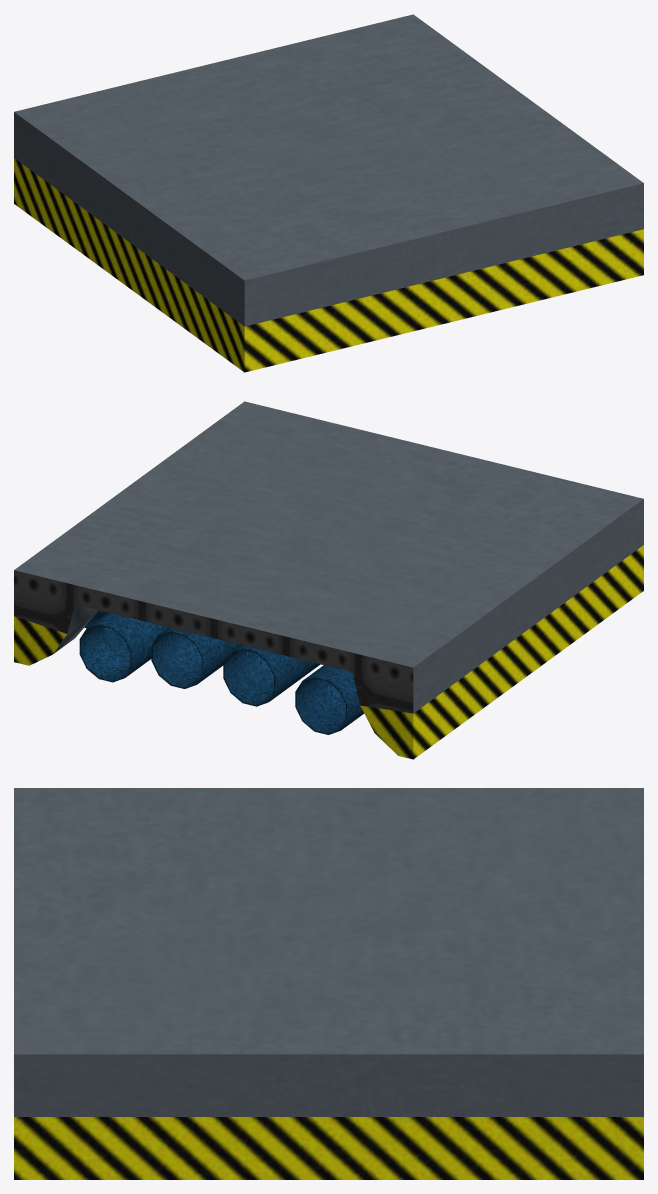
File: CeilingPanels05.fbx
3 renders of one model, top to bottom at view 1: azimuth 30°, elevation 25°; view 2: azimuth 150°, elevation 25°; view 3: azimuth 270°, elevation 25°, orthographic. The views are drawn at different scales.
Visible parts, largest first — view 1: CeilingPanels05; view 2: CeilingPanels05; view 3: CeilingPanels05.
Part boxes in pixels (x1,y1,x2,y2): CeilingPanels05: [14, 14, 643, 372]; CeilingPanels05: [14, 401, 643, 759]; CeilingPanels05: [14, 788, 643, 1179].
Bounding box in the file's own units: 200 × 44 × 200.
